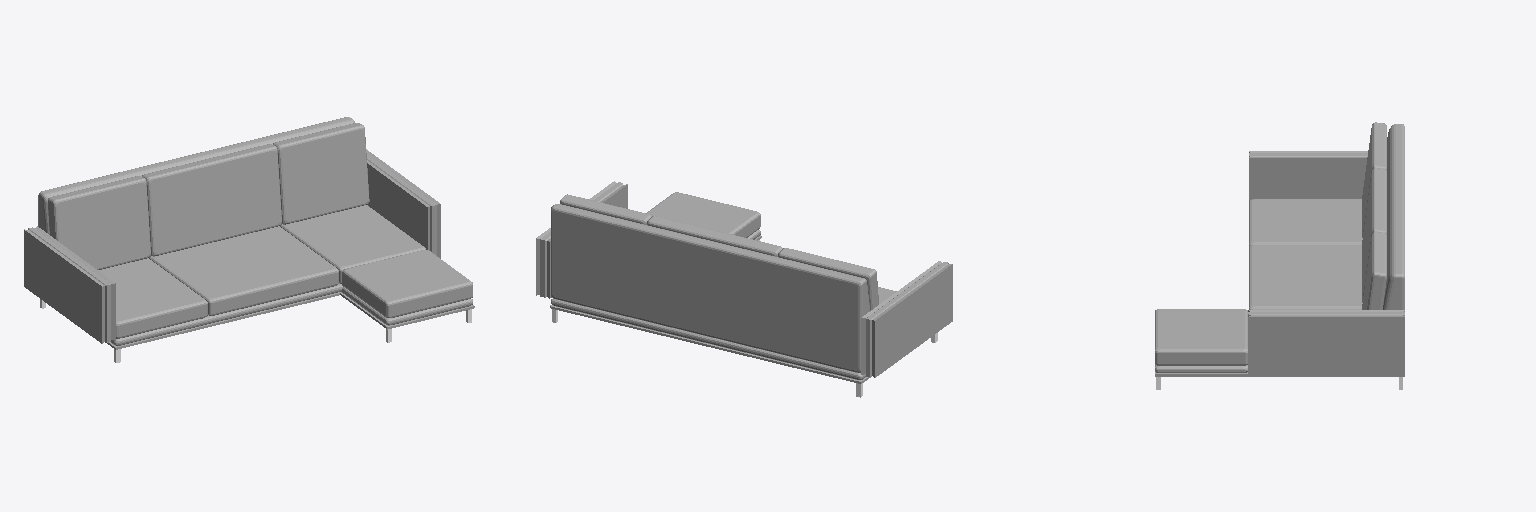
File: divano.obj
3 views of the same model, side by side, from view 1: azimuth 30°, elevation 25°; view 2: azimuth 150°, elevation 25°; view 3: azimuth 270°, elevation 25° (orthographic).
Parts seen in each view (by area): view 1: divano; view 2: divano; view 3: divano.
Part boxes in pixels (x1,y1,x2,y2): divano: (24, 117, 474, 362); divano: (536, 181, 952, 397); divano: (1155, 122, 1404, 389).
Size of the model in its own units: 311 by 103 by 199.